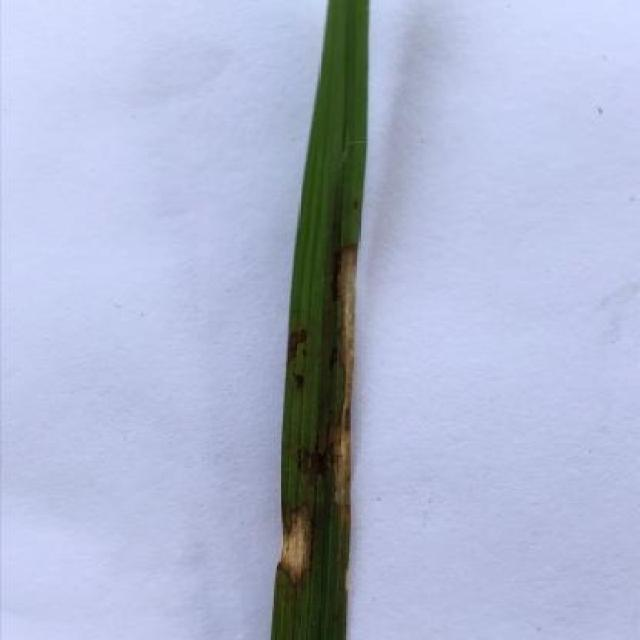Brown_Spot: (266, 0, 385, 640)
